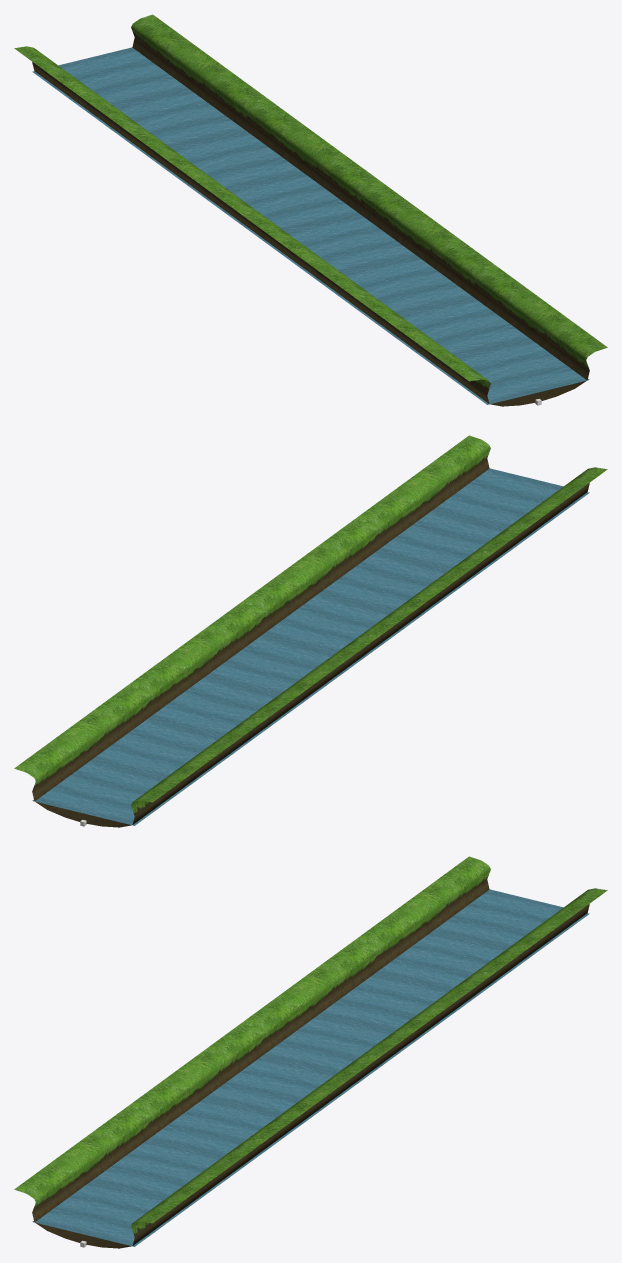
File: roadStraight.long.fbx
3 renders of one model, top to bottom at view 1: azimuth 30°, elevation 25°; view 2: azimuth 150°, elevation 25°; view 3: azimuth 330°, elevation 25°, orthographic.
Visible parts, largest first — view 1: MESH roadStraight.long; view 2: MESH roadStraight.long; view 3: MESH roadStraight.long.
Part boxes in pixels (bbox=[...]): MESH roadStraight.long: bbox=[14, 14, 607, 406]; MESH roadStraight.long: bbox=[14, 435, 607, 827]; MESH roadStraight.long: bbox=[14, 856, 607, 1248].
Size of what is drawn, in the model's own units: 1691 by 463 by 9650.
